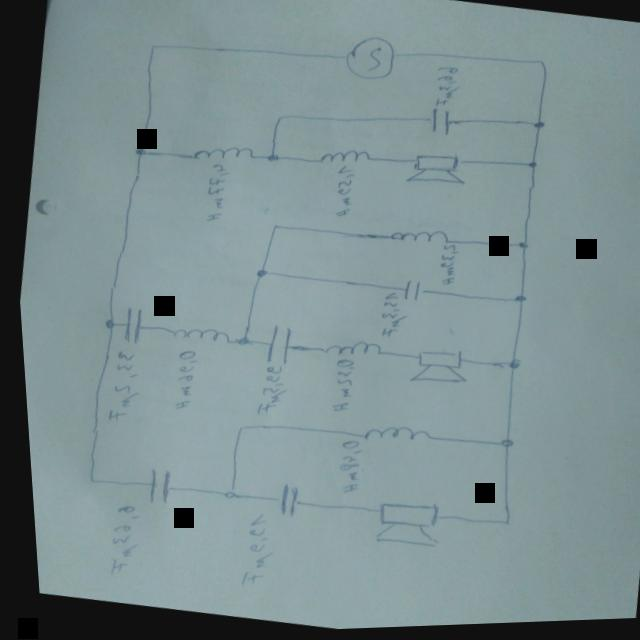capacitor: (257, 324, 288, 370), (136, 466, 167, 508), (268, 482, 294, 521), (115, 306, 139, 346), (425, 109, 451, 140), (397, 281, 417, 306)
inductor: (355, 421, 429, 454), (186, 140, 256, 171), (164, 323, 229, 352), (315, 337, 378, 366), (383, 226, 448, 252), (314, 146, 371, 173)
junction: (227, 334, 249, 352), (260, 150, 279, 168), (213, 487, 233, 503), (491, 439, 511, 454), (249, 267, 266, 284), (499, 361, 517, 377), (98, 318, 115, 333), (521, 161, 538, 176), (271, 113, 288, 127), (528, 122, 545, 136), (507, 296, 523, 310), (510, 243, 527, 256), (265, 222, 280, 235), (129, 147, 145, 159), (490, 520, 506, 532), (229, 424, 242, 437), (145, 42, 159, 54), (79, 477, 92, 487), (533, 63, 545, 71)
source: (338, 33, 399, 86)
text: (227, 512, 273, 592), (93, 502, 138, 580), (97, 349, 142, 426), (196, 163, 231, 227), (247, 365, 285, 421), (163, 349, 195, 413), (321, 358, 354, 418), (326, 440, 360, 498), (326, 165, 357, 222), (371, 293, 405, 343), (427, 67, 462, 113), (431, 246, 457, 289)
